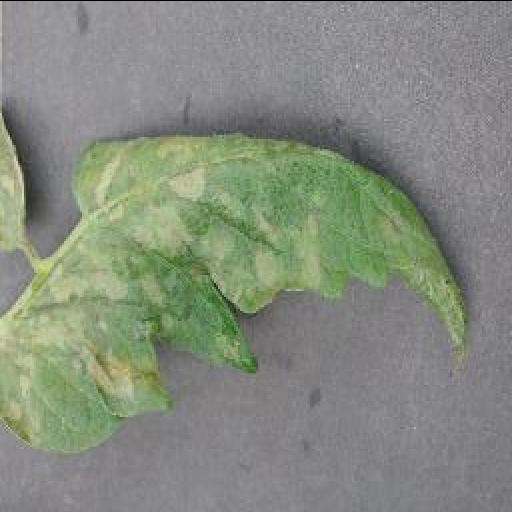disease_tomato: (0, 131, 472, 453)
